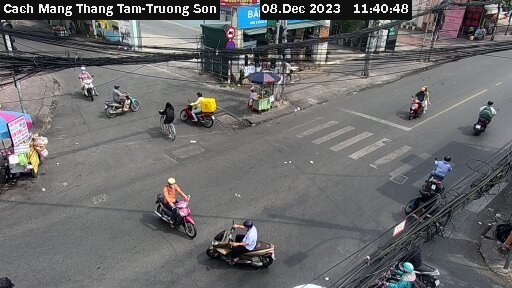motorbike: (197, 213, 268, 279), (141, 169, 199, 240), (383, 228, 452, 279), (65, 61, 116, 108), (419, 151, 461, 196), (184, 91, 227, 133), (468, 97, 507, 143), (100, 83, 147, 121), (406, 87, 446, 125)
